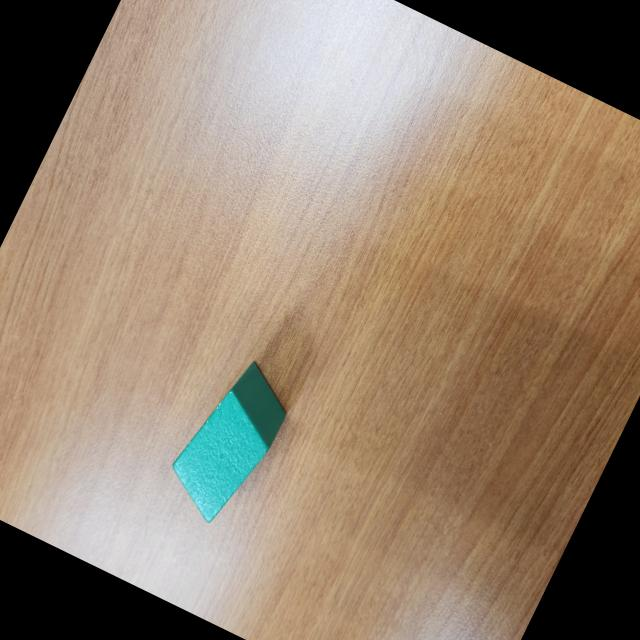green: (155, 348, 301, 534)
